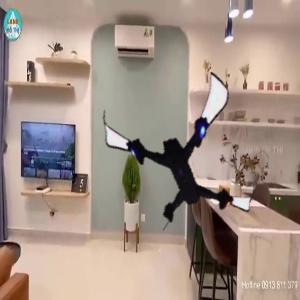drone: (101, 81, 251, 231)
